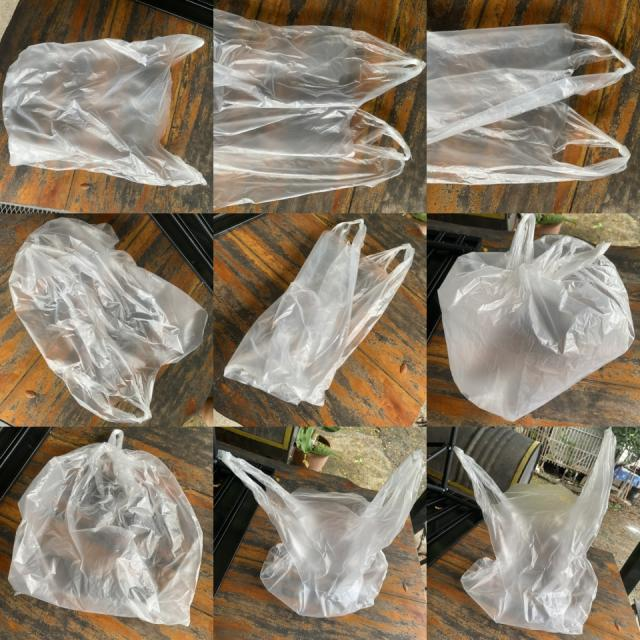Single-layer Plastic: (214, 10, 425, 208), (9, 218, 208, 422), (439, 214, 634, 421), (9, 429, 202, 624), (224, 219, 415, 405), (219, 450, 425, 618), (454, 429, 616, 634), (428, 24, 634, 184), (2, 34, 206, 186)
